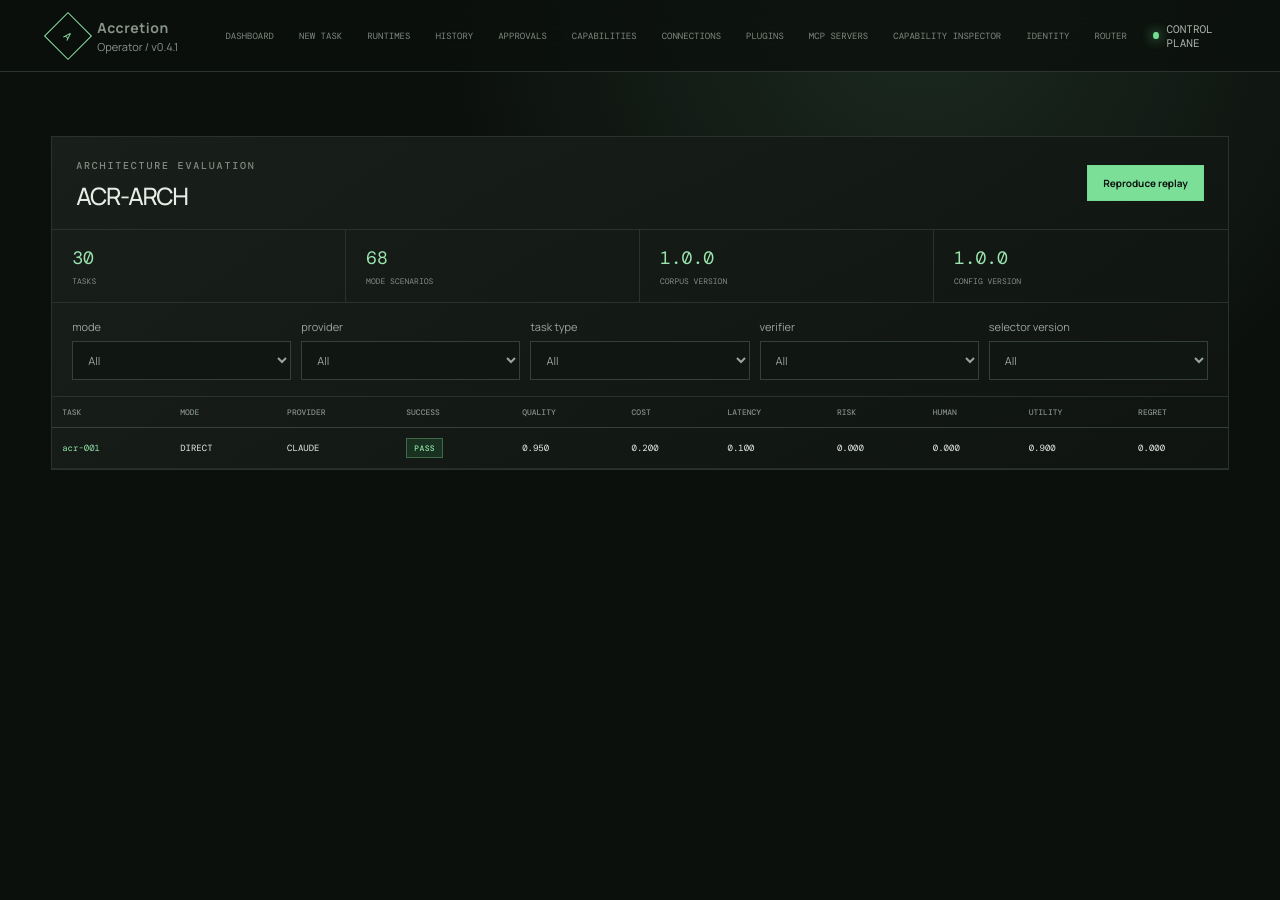
Test: filters and reproduces the versioned ACR-ARCH benchmark
Check: the text "68" is shown, box [366,246,388,270]
Select "LOOP" in the dropdown labelled "mode" at (182, 360), box [72,341,291,380]
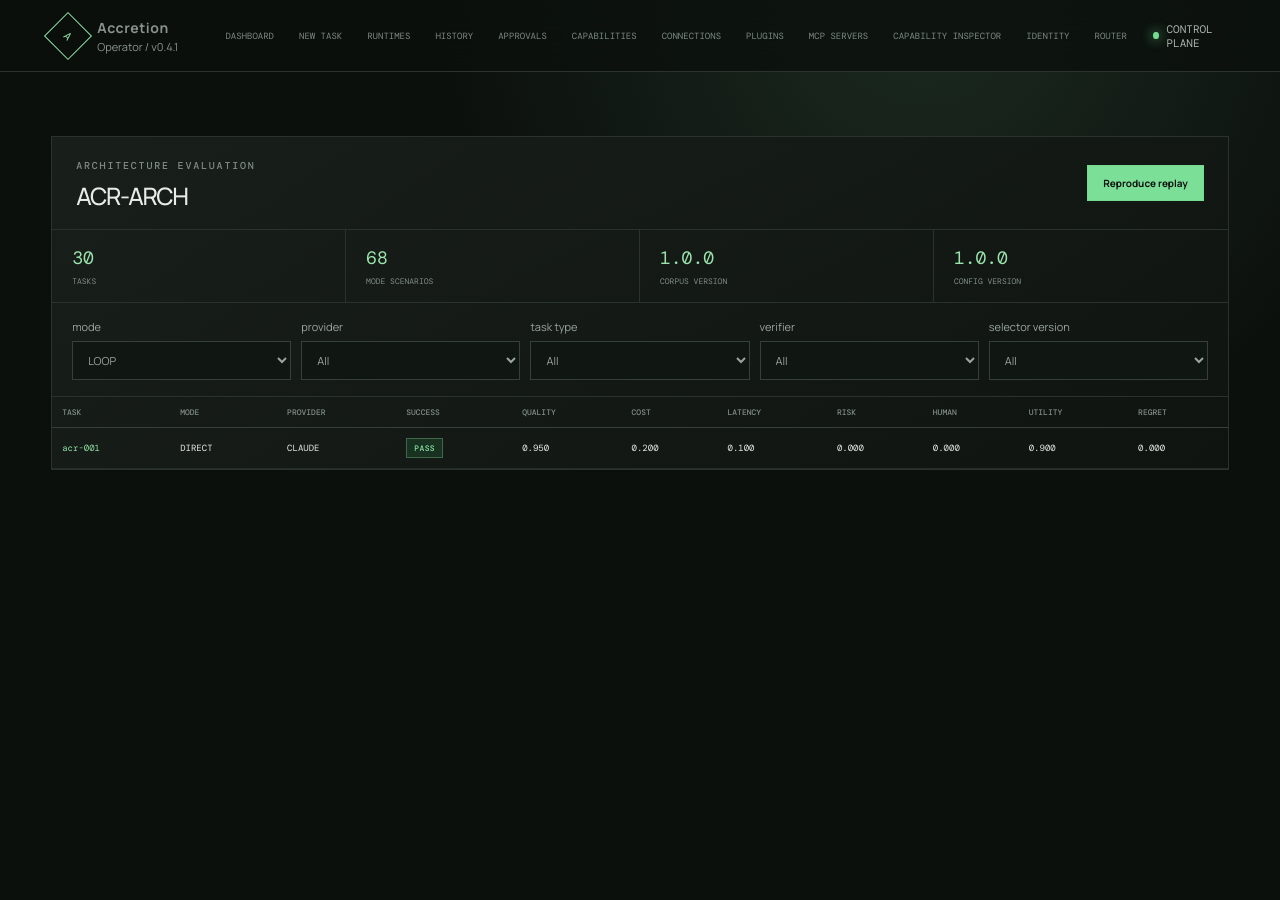
Click the button "acr-001" at (81, 448), box [62,442,100,454]
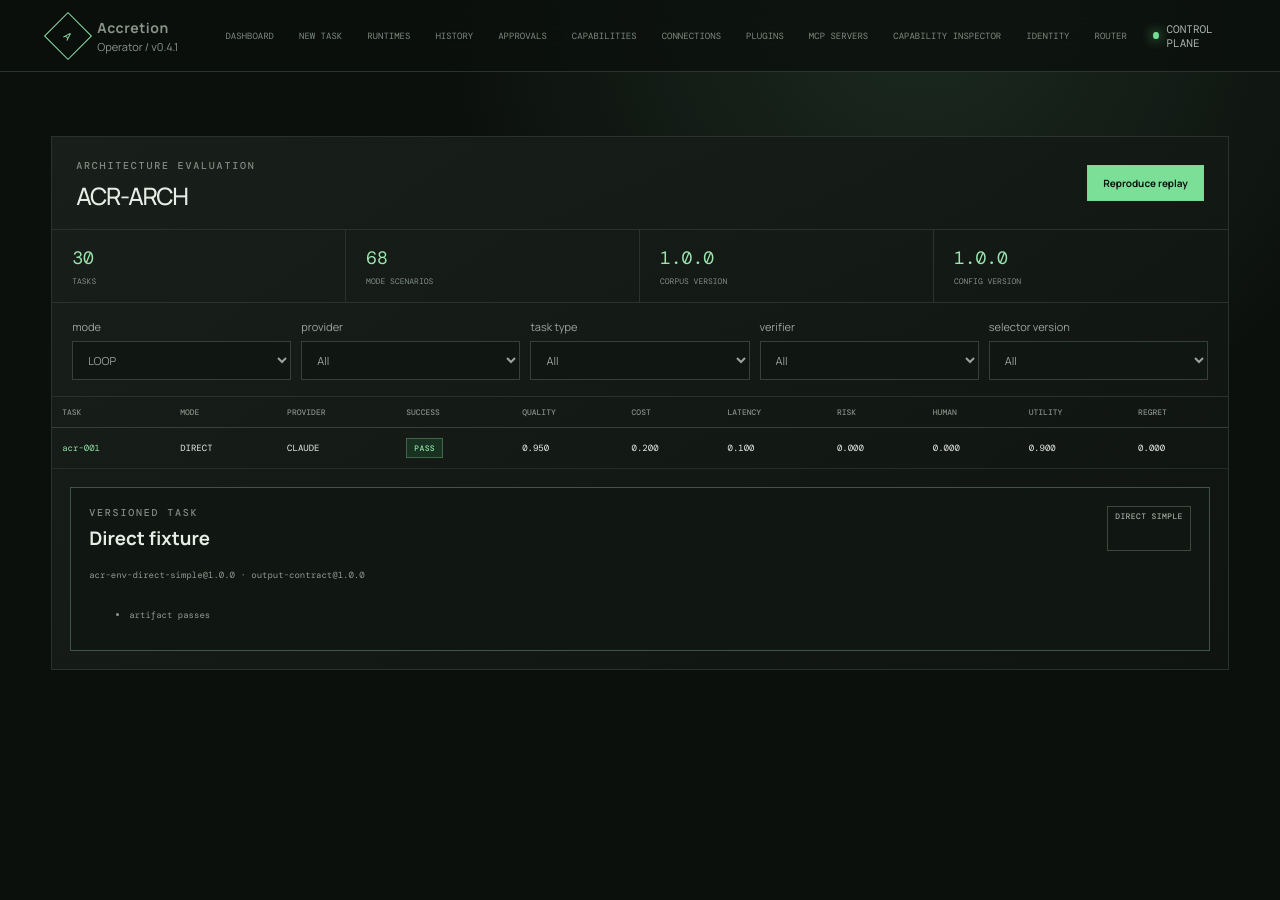
Check: the heading "Direct fixture" is shown, box [89,525,210,551]
Click the button "Reproduce replay" at (1146, 183), box [1087,165,1204,201]
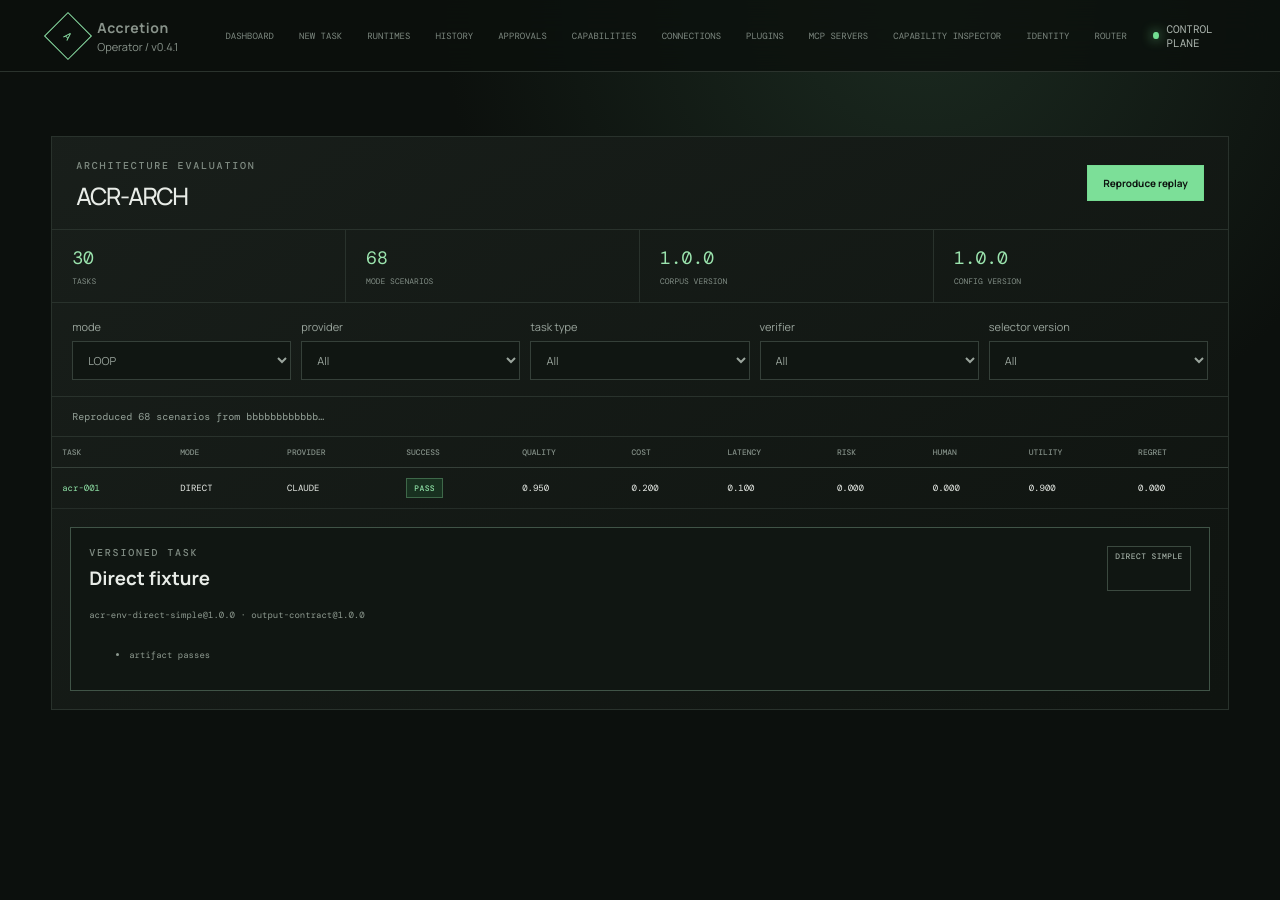
Check: the text "Reproduced 68 scenarios" is shown, box [72,410,324,423]
